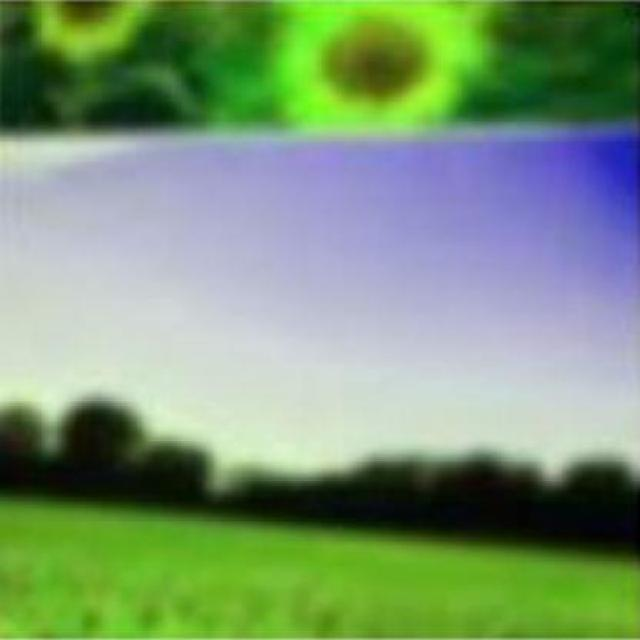sunflower: (282, 0, 480, 142)
